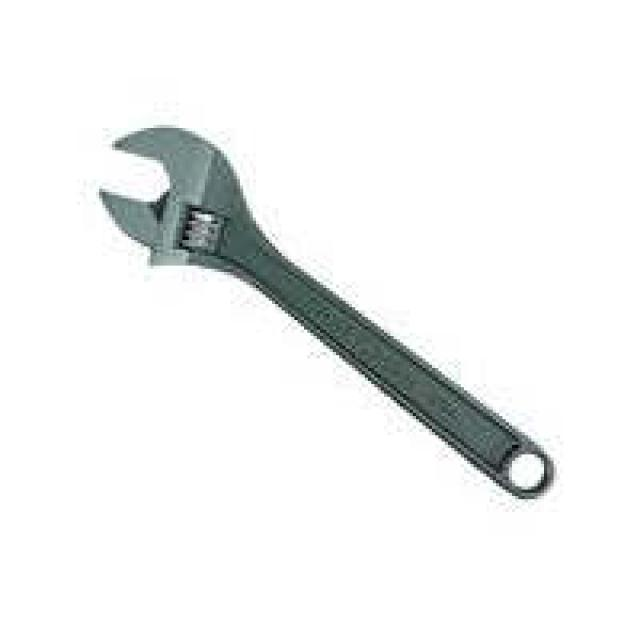wrench: (85, 92, 602, 536)
